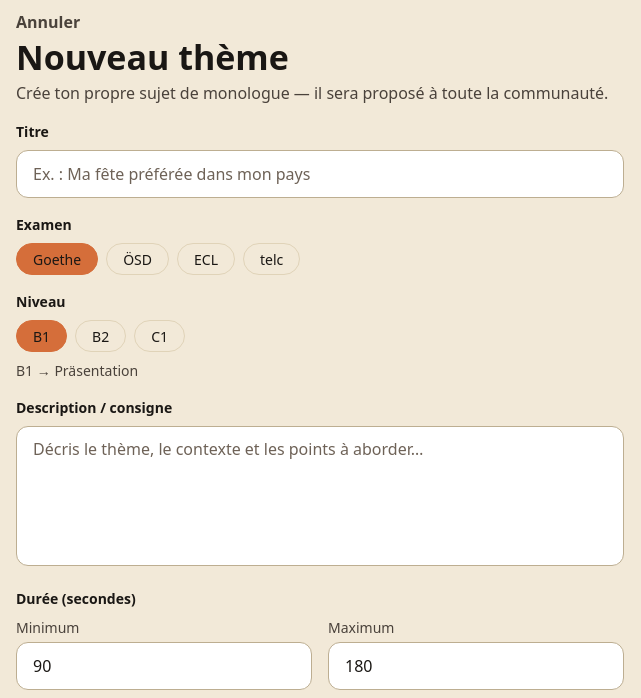
Test: CustomTopicScreen — community sprechen theme authoring (S7 Task 7.7) › level change re-seeds duration defaults from DURATION_DEFAULTS
Expected: the field named "Minimum" holds "90", [16,642,312,690]
Expected: the field named "Maximum" holds "180", [328,642,624,690]
Click the button with test id "sprechen-custom-topic-level-C1" at (160, 336), box [134,320,185,352]
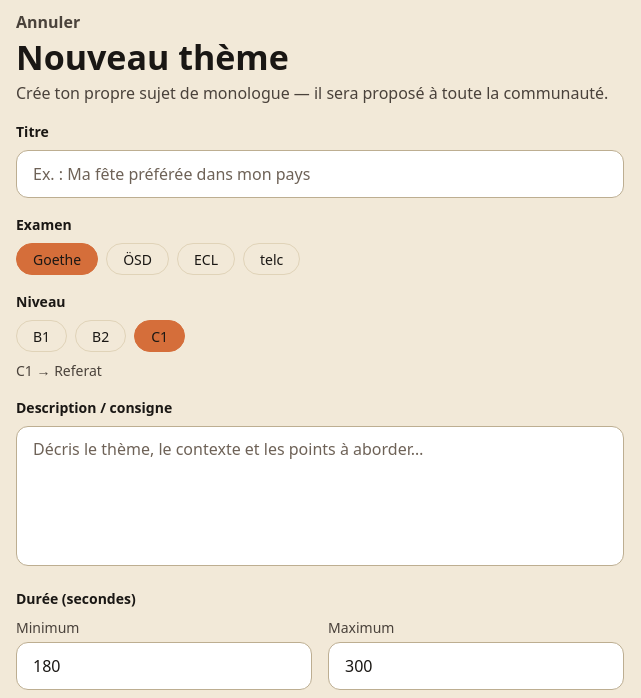
Expected: the field named "Minimum" holds "180", [16,642,312,690]
Expected: the field named "Maximum" holds "300", [328,642,624,690]
